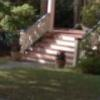stairs: (22, 33, 84, 69)
